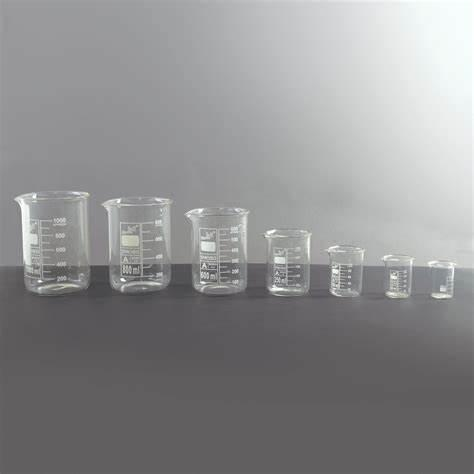Beaker: (12, 184, 93, 298), (101, 193, 174, 294), (183, 198, 250, 295), (261, 220, 317, 298), (327, 240, 368, 304), (382, 246, 417, 295), (426, 250, 457, 303)
